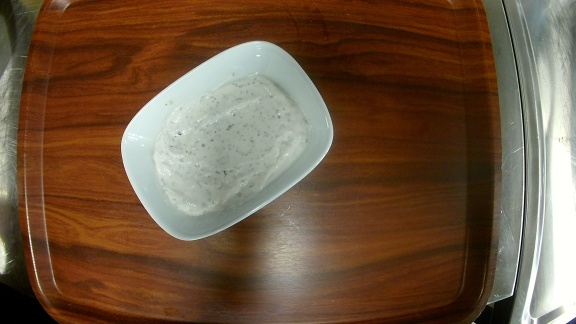haydari: (121, 40, 335, 240)
